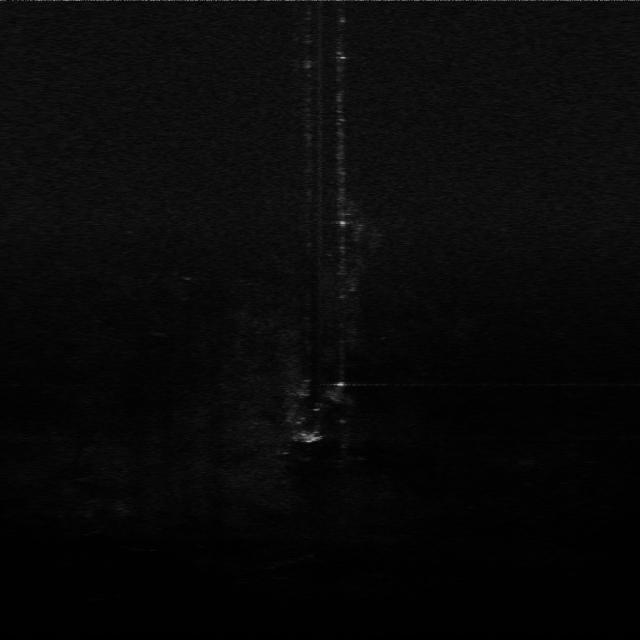rov: (296, 428, 330, 445)
